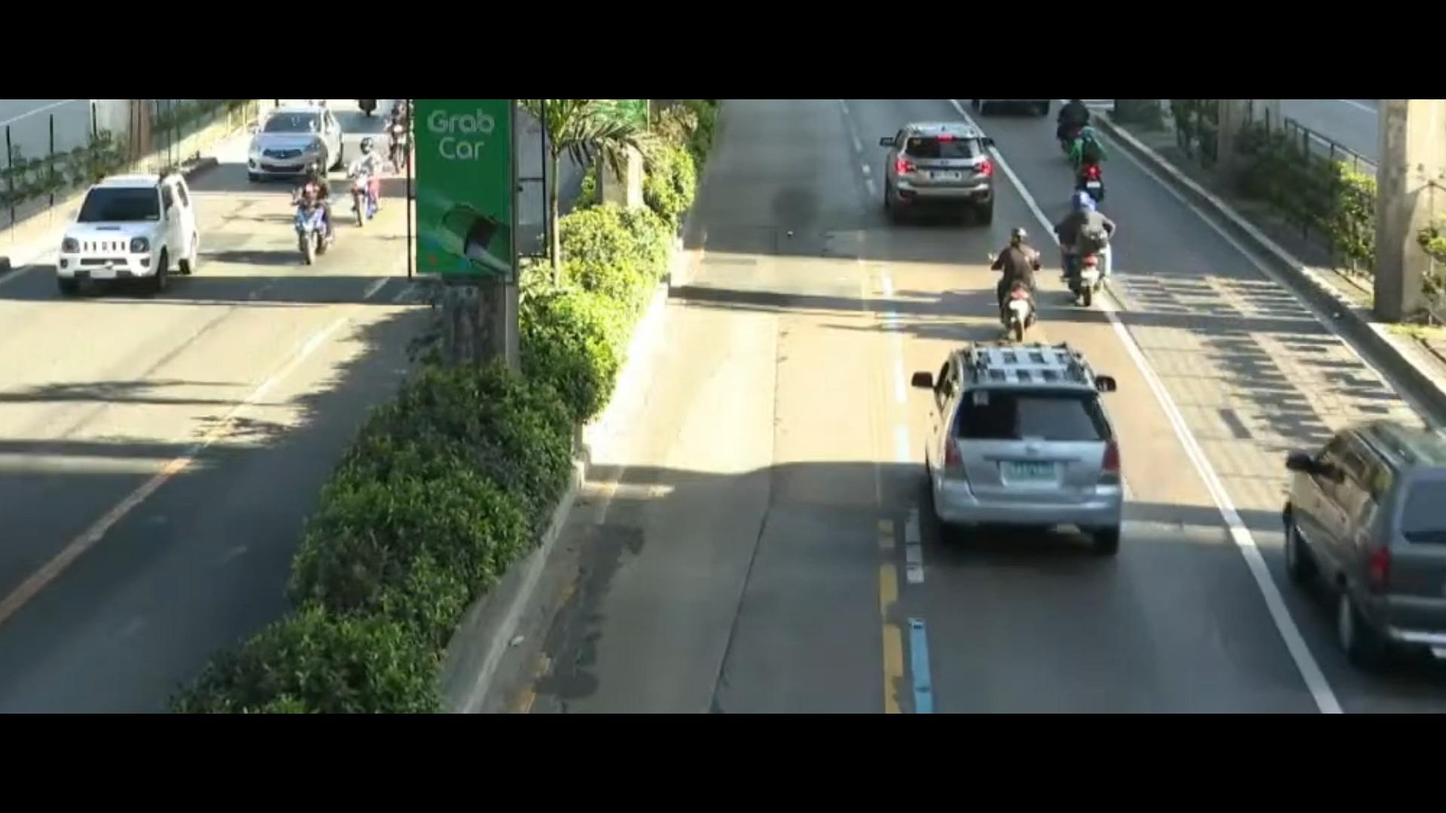Motorcycle: (1048, 196, 1147, 310), (986, 213, 1051, 358), (284, 147, 337, 303), (1058, 106, 1134, 203), (325, 138, 386, 250), (1045, 98, 1105, 136)
SUV: (908, 324, 1138, 580), (1258, 384, 1446, 663), (36, 162, 228, 310), (872, 113, 1004, 217), (236, 99, 347, 179)
